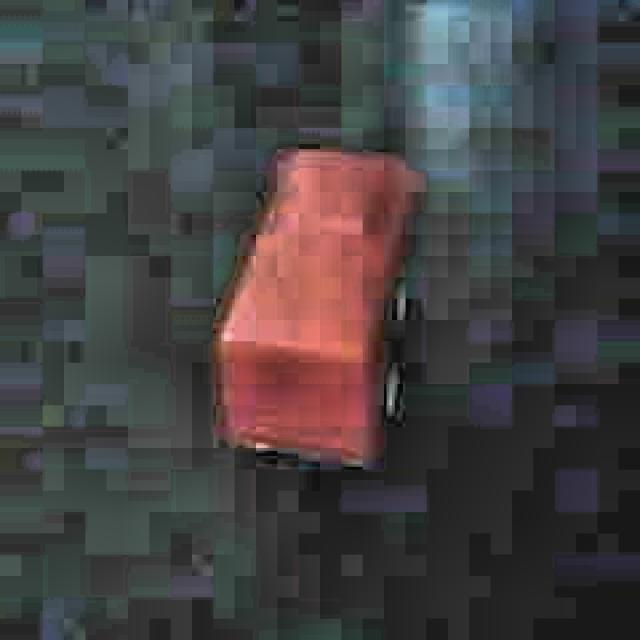bus: (202, 141, 426, 480)
